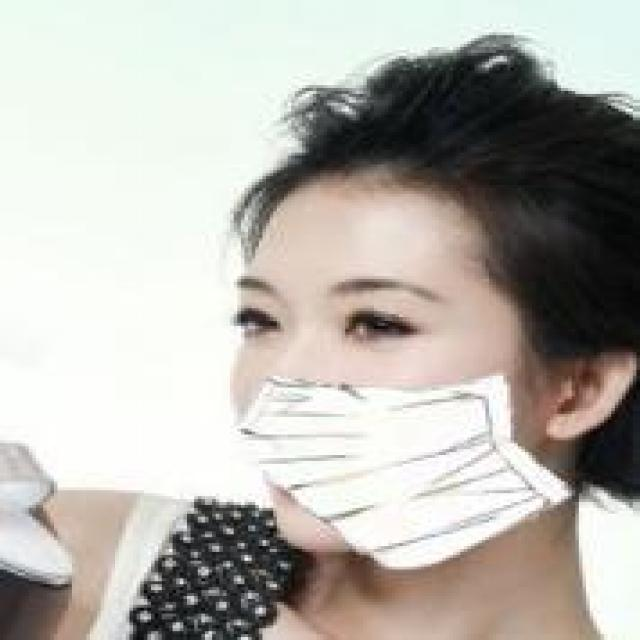mask: (208, 64, 640, 598)
